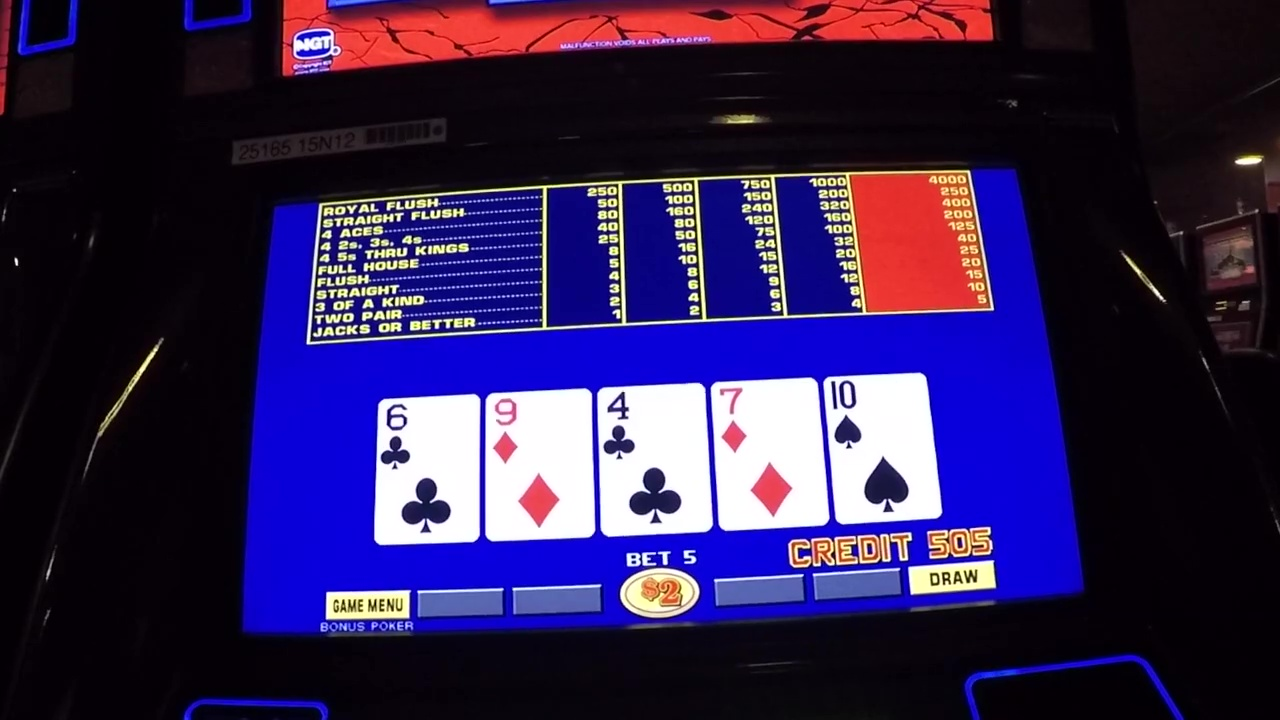C6: (379, 400, 479, 468)
D7: (713, 382, 818, 461)
D9: (489, 393, 587, 468)
S4: (599, 389, 703, 461)
ST: (827, 378, 921, 459)
